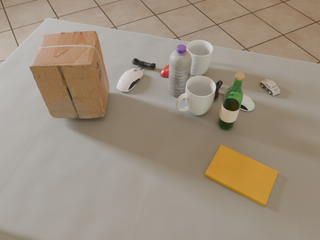book: (205, 145, 278, 206)
bottle: (218, 72, 245, 130), (169, 45, 192, 97)
box: (30, 31, 109, 118)
cup: (176, 76, 216, 115), (186, 40, 213, 76)
mouse: (117, 69, 143, 92), (224, 94, 255, 111), (160, 65, 169, 77)
toy_car: (260, 79, 280, 96)
